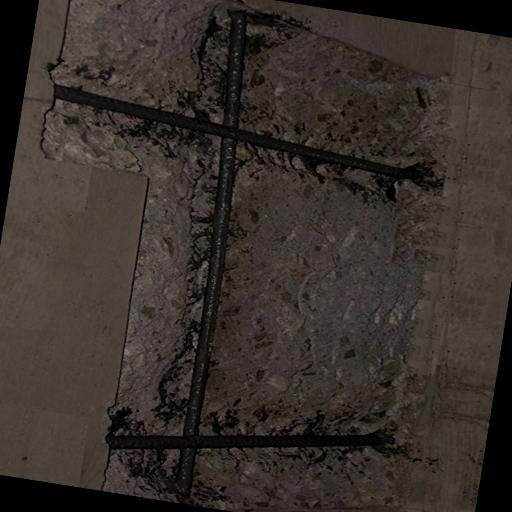spalling: (44, 0, 445, 497)
